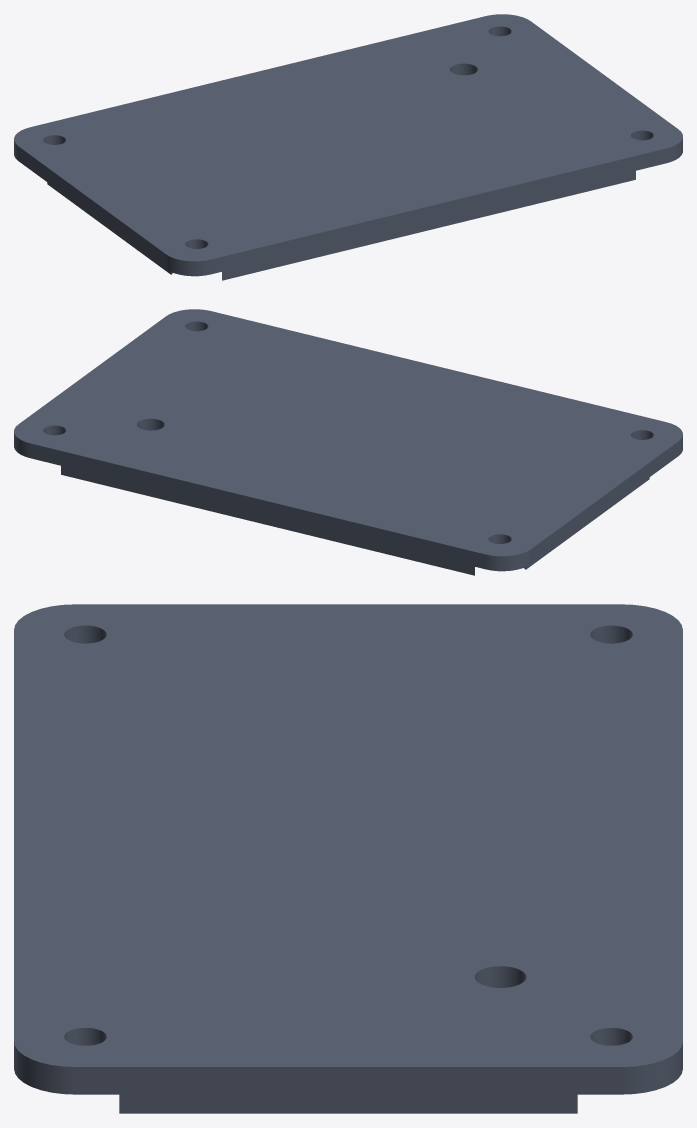
Rendered from lid.glb.
3 views of the same model, one above another, from view 1: azimuth 30°, elevation 25°; view 2: azimuth 150°, elevation 25°; view 3: azimuth 270°, elevation 25° (orthographic). The views are drawn at different scales.
Visible parts, largest first — view 1: lid; view 2: lid; view 3: lid.
Boxes of the visible parts, x1,y1,x2,y2 form: lid: (14, 14, 682, 280); lid: (14, 309, 682, 575); lid: (14, 604, 682, 1113).
Bounding box in the file's own units: 0.072 × 0.0045 × 0.044.
